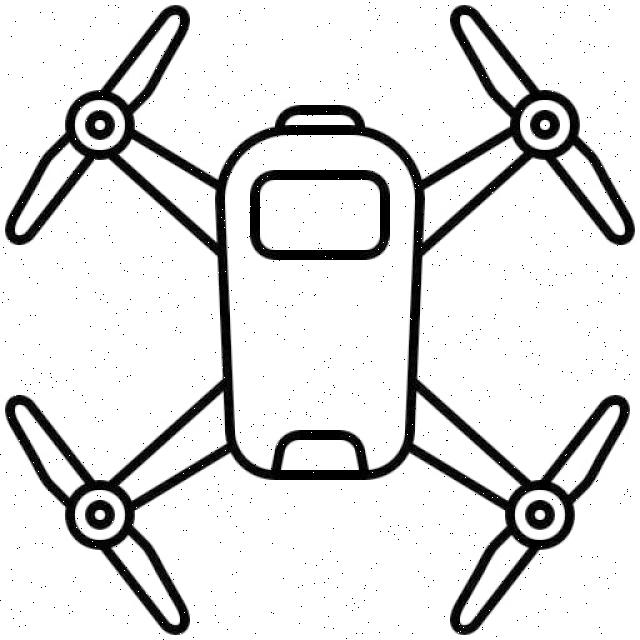drone: (1, 2, 633, 640)
